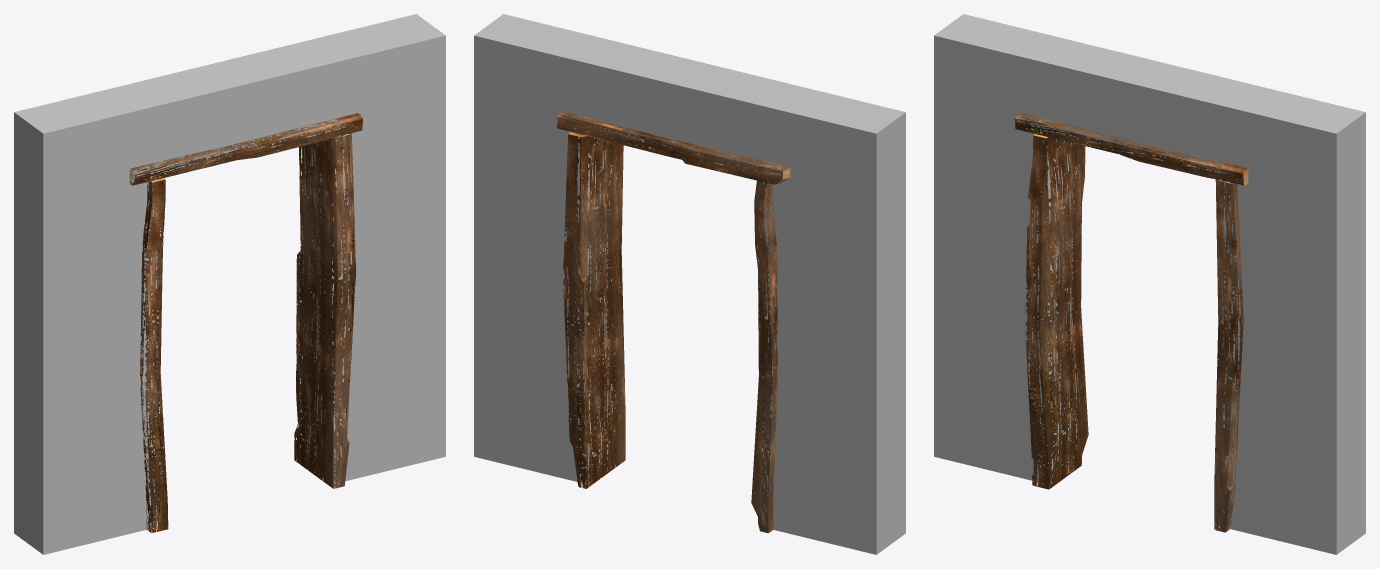
3 views of the same model, side by side, from view 1: azimuth 30°, elevation 25°; view 2: azimuth 150°, elevation 25°; view 3: azimuth 330°, elevation 25° (orthographic).
Parts seen in each view (by area): view 1: SM_BB_T4_Wall_Large_Doorframe_02_LOD0; view 2: SM_BB_T4_Wall_Large_Doorframe_02_LOD0; view 3: SM_BB_T4_Wall_Large_Doorframe_02_LOD0.
Part boxes in pixels (x1,y1,x2,y2): SM_BB_T4_Wall_Large_Doorframe_02_LOD0: (14, 14, 445, 554); SM_BB_T4_Wall_Large_Doorframe_02_LOD0: (474, 14, 905, 554); SM_BB_T4_Wall_Large_Doorframe_02_LOD0: (934, 14, 1365, 554).
Size of the model in its own units: 3 by 3 by 0.5176.
